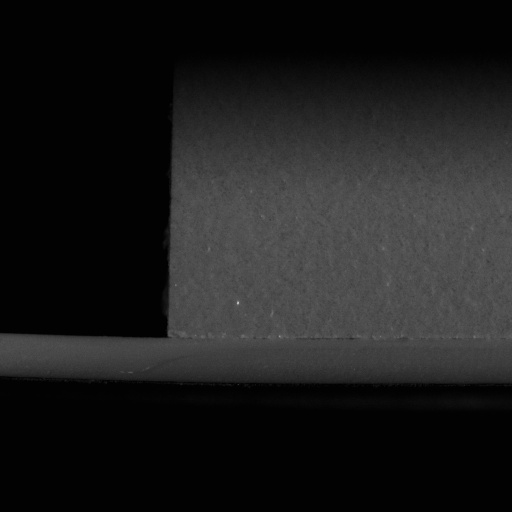changdai: (0, 334, 166, 387)
